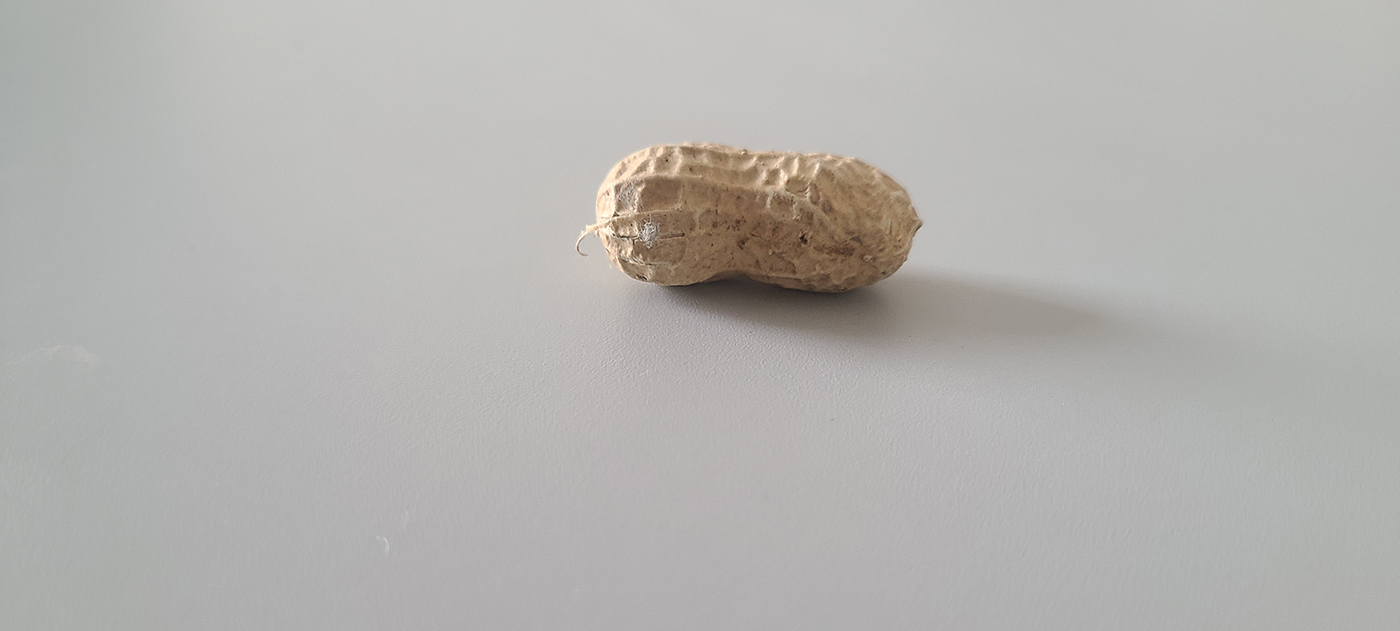h: (592, 141, 923, 291)
